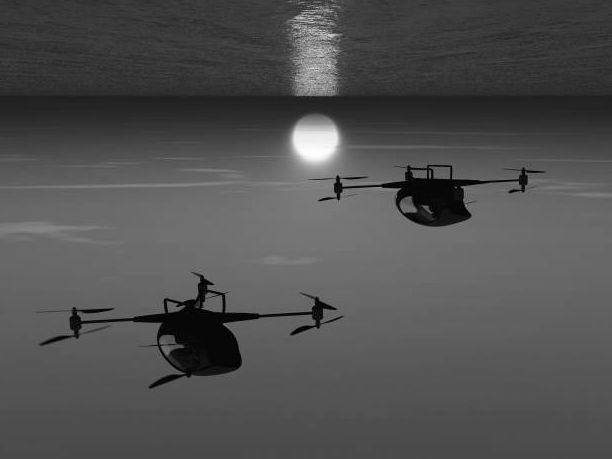Drone: (32, 270, 349, 388), (303, 159, 557, 233)
